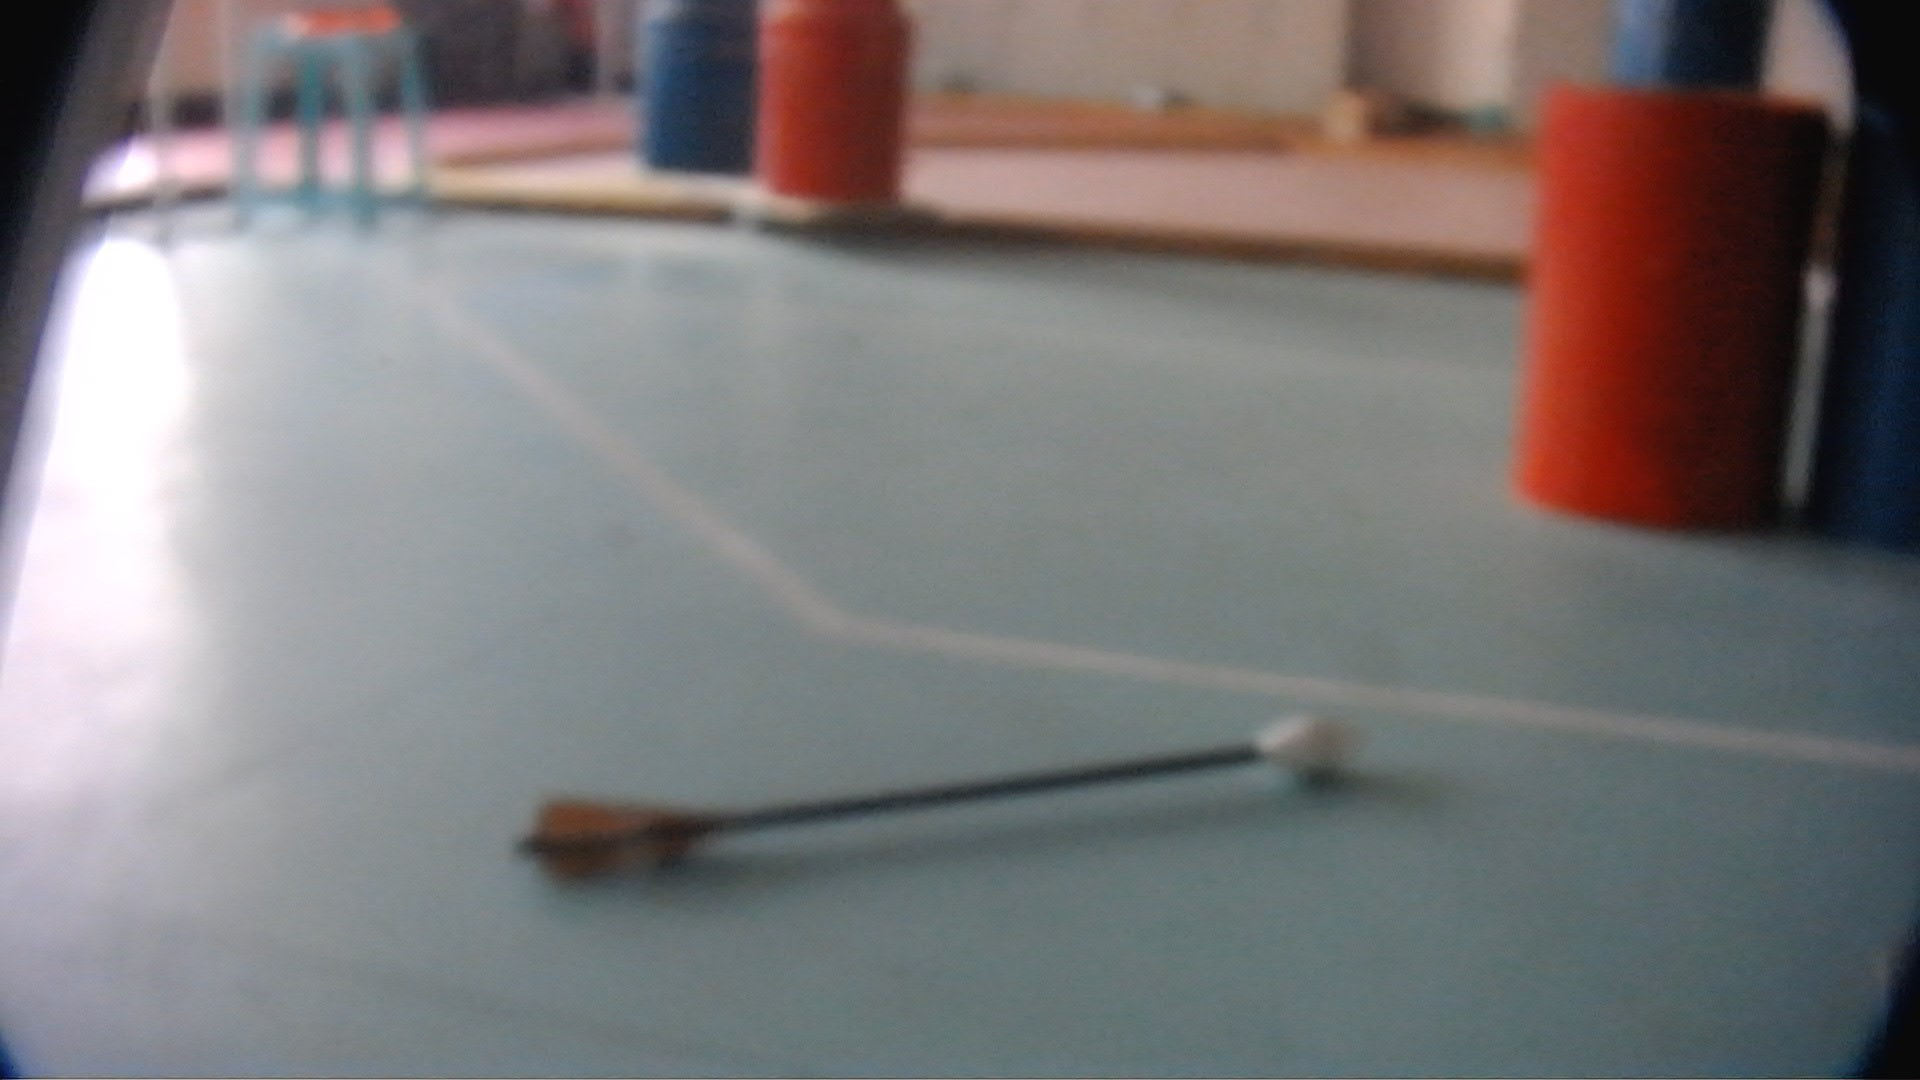arrow: (513, 711, 1360, 877)
arrowFront: (1255, 713, 1361, 777)
